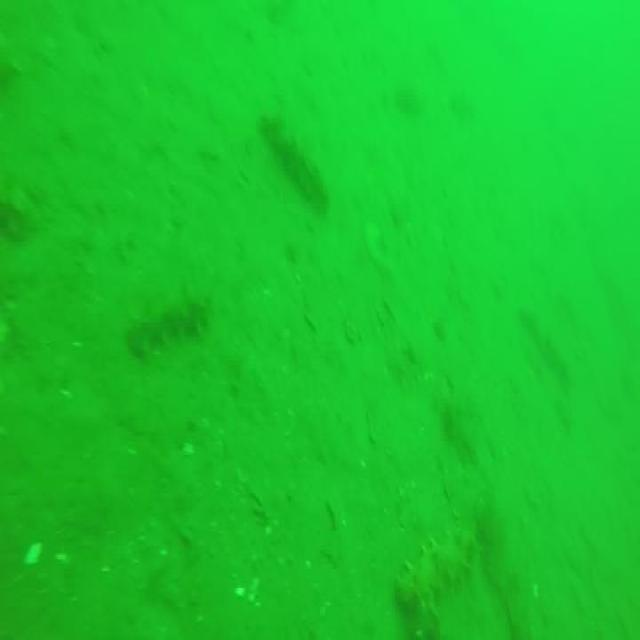holothurian: (390, 525, 478, 613), (259, 117, 329, 220), (124, 292, 218, 356)
